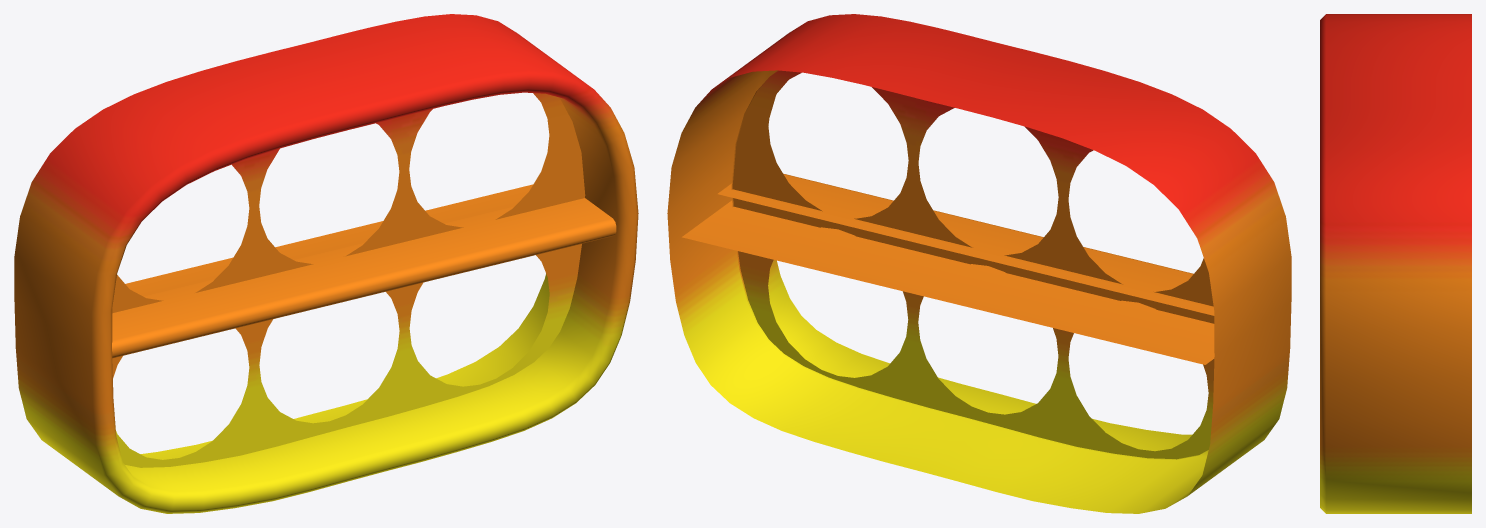
The model's file is AmongUs_Cut_02_0.FBX.
3 views of the same model, side by side, from view 1: azimuth 30°, elevation 25°; view 2: azimuth 150°, elevation 25°; view 3: azimuth 270°, elevation 25° (orthographic). The views are drawn at different scales.
Parts seen in each view (by area): view 1: AmongUs_Cut_02_0; view 2: AmongUs_Cut_02_0; view 3: AmongUs_Cut_02_0.
Boxes of the visible parts, left/top/right/bottom form: AmongUs_Cut_02_0: left=14, top=14, right=638, bottom=513; AmongUs_Cut_02_0: left=667, top=14, right=1291, bottom=513; AmongUs_Cut_02_0: left=1320, top=14, right=1471, bottom=513.
Size of the model in its own units: 2.91 by 0.74 by 1.91.
